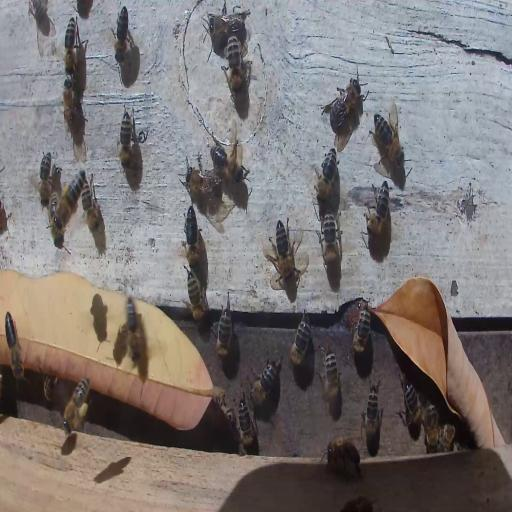nonpollenbee: (324, 74, 370, 128), (372, 106, 404, 165), (248, 354, 283, 406), (270, 216, 294, 286), (324, 435, 362, 479), (364, 181, 392, 238), (318, 345, 342, 408), (178, 154, 210, 200), (224, 35, 248, 94), (211, 148, 245, 189), (80, 174, 104, 232), (206, 10, 248, 43), (399, 379, 423, 435), (313, 150, 338, 202), (363, 381, 383, 443), (320, 210, 342, 266), (5, 309, 23, 377), (236, 395, 256, 455), (350, 302, 372, 356), (290, 313, 312, 366), (112, 4, 130, 66), (186, 271, 208, 320), (126, 295, 142, 362), (184, 206, 200, 270), (118, 106, 132, 174), (216, 300, 232, 357), (64, 16, 78, 76), (48, 192, 64, 244), (38, 150, 52, 206), (424, 402, 439, 451), (434, 423, 456, 451), (62, 76, 75, 122), (43, 372, 58, 405)
pollenbee: (60, 370, 91, 438), (58, 167, 85, 225)
